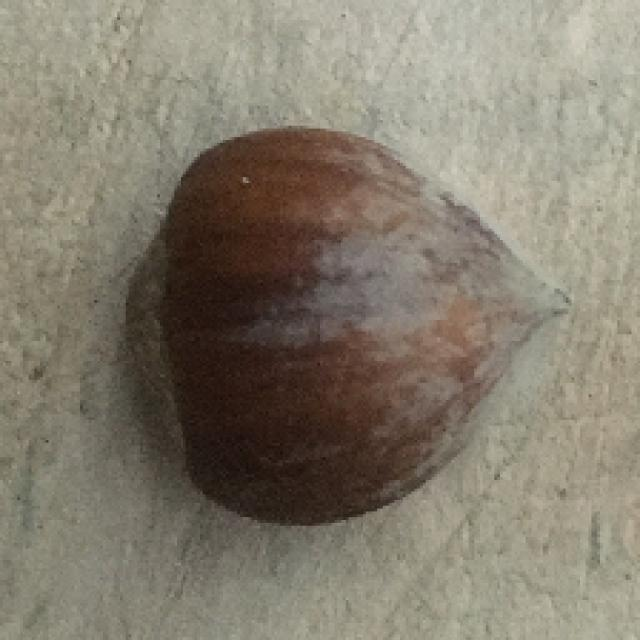qualityHazelnut: (110, 128, 584, 536)
